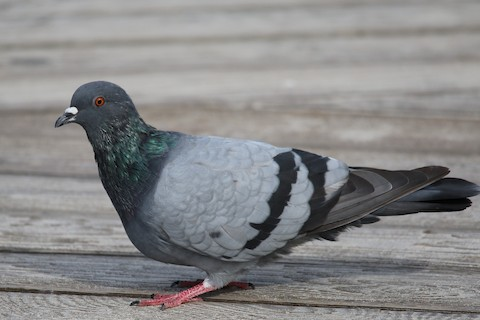pigeon: (54, 68, 476, 313)
